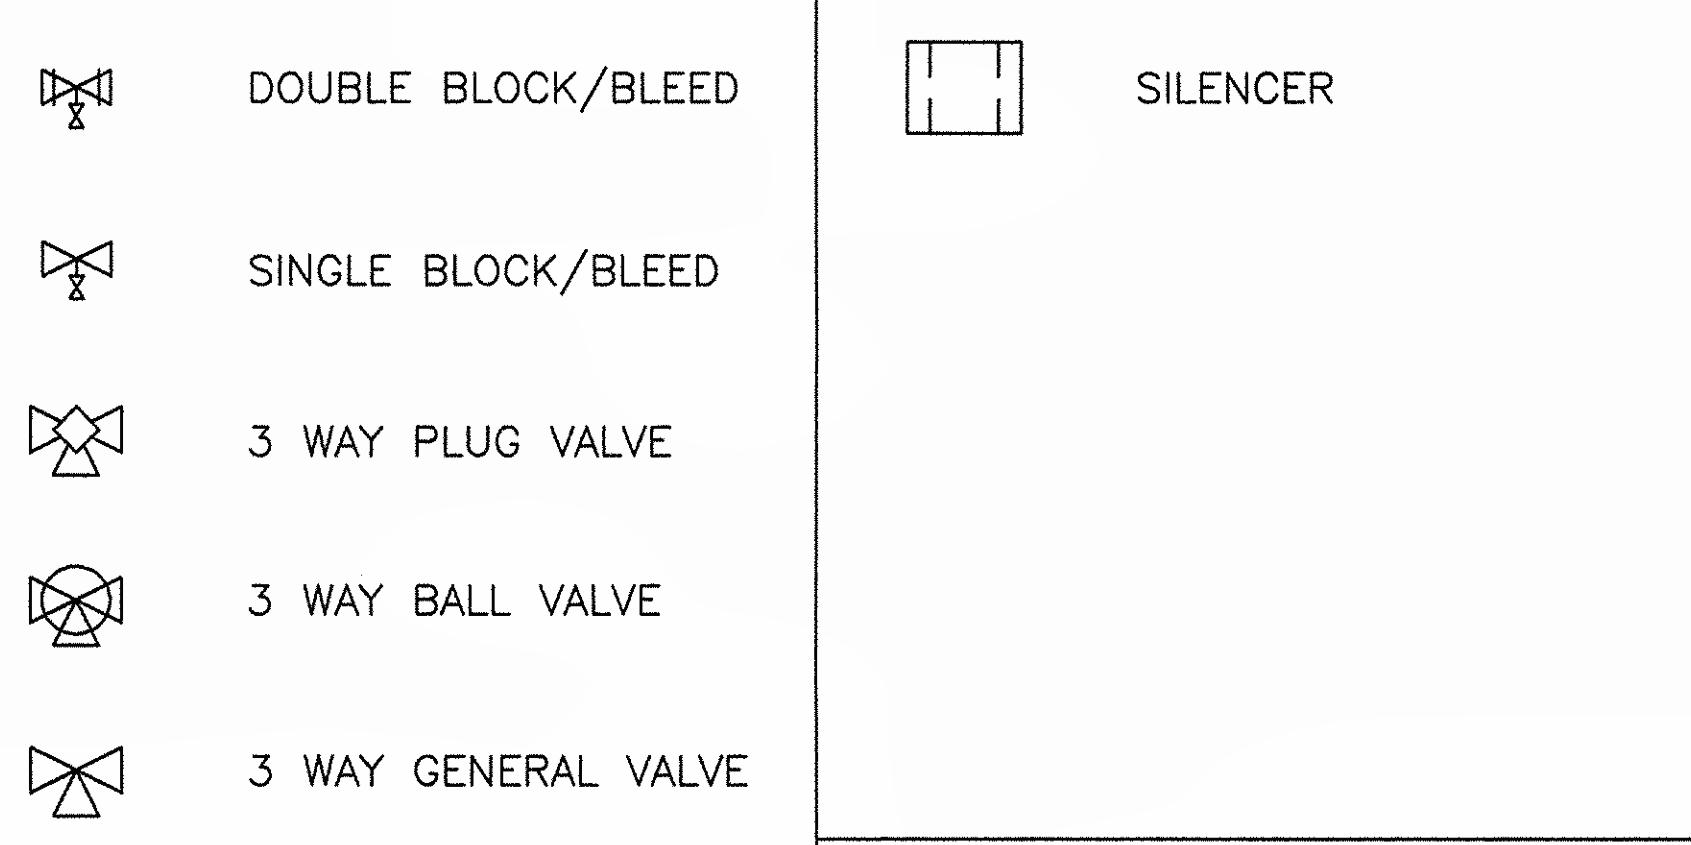3 WAY BALL VALVE: (24, 556, 128, 654)
3 WAY GENERAL VALVE: (25, 737, 127, 821)
3 WAY PLUG VALVE: (25, 397, 125, 479)
BLEED: (35, 232, 119, 302), (39, 63, 118, 133)
SILENCER: (897, 33, 1031, 140)
